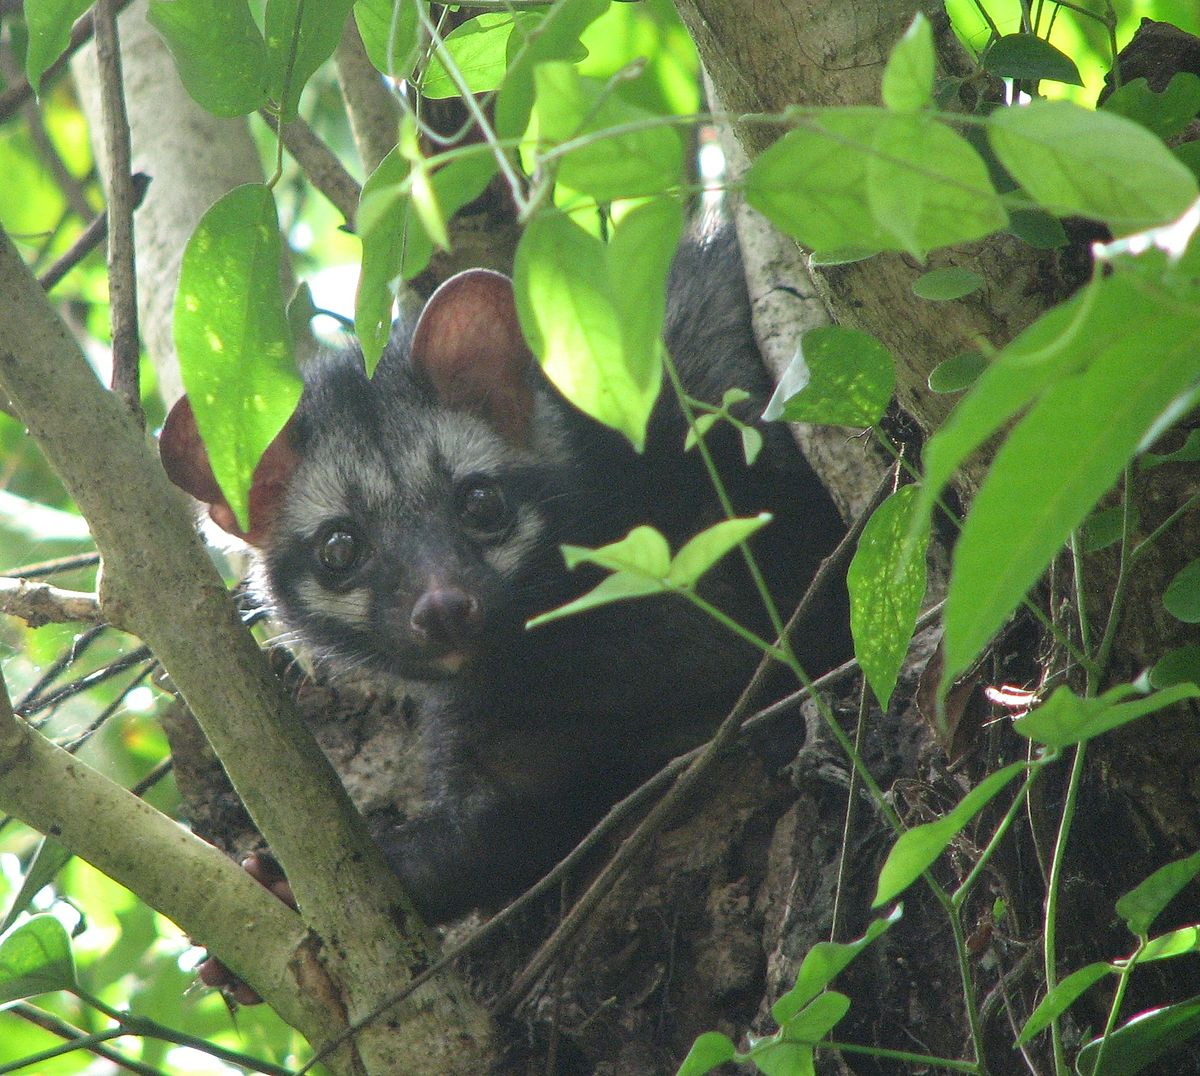Civet: (187, 288, 605, 712)
